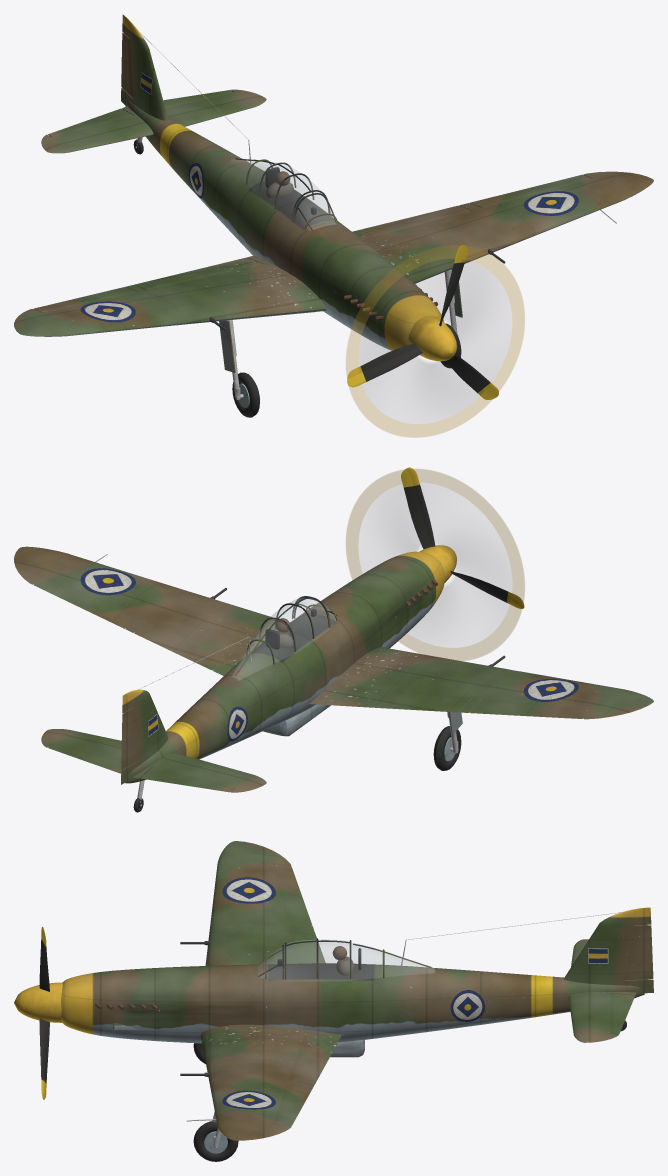
The model's file is fighter_t1_game.glb.
3 views of the same model, one above another, from view 1: azimuth 30°, elevation 25°; view 2: azimuth 150°, elevation 25°; view 3: azimuth 270°, elevation 25° (orthographic). The views are drawn at different scales.
Parts seen in each view (by area): view 1: fuselage, prop_disc, wing_R, wing_L, stabilizer, prop_blades, canopy, prop_spinner, flap_R, flap_L, elevator, decal_wing_L_top (+4 smaller); view 2: fuselage, prop_disc, wing_R, wing_L, stabilizer, flap_R, flap_L, canopy, prop_blades, elevator, aileron_L, aileron_R (+6 smaller); view 3: fuselage, wing_L, wing_R, canopy, stabilizer, flap_L, prop_spinner, rudder, aileron_R, wheel_main_L, decal_wing_R_top, prop_blades (+5 smaller).
Boxes of the visible parts, x1,y1,x2,y2 form: fuselage: (121,14,444,350); prop_disc: (346,245,524,437); wing_R: (14,255,326,336); wing_L: (362,171,653,283); stabilizer: (41,89,266,153); prop_blades: (347,244,498,399); canopy: (258,162,328,223); prop_spinner: (408,315,456,361); flap_R: (134,257,262,289); flap_L: (352,205,471,239); elevator: (48,90,234,136); decal_wing_L_top: (524,191,578,215); fuselage: (121,551,444,784); prop_disc: (346,469,524,660); wing_R: (309,647,653,719); wing_L: (14,546,277,657); stabilizer: (41,729,266,792); flap_R: (320,685,471,712); flap_L: (134,619,242,675); canopy: (259,596,330,653); prop_blades: (401,467,524,608); elevator: (48,743,234,792); aileron_L: (33,575,137,628); aileron_R: (470,699,592,718); fuselage: (61,907,653,1057); wing_L: (180,1024,341,1140); wing_R: (180,841,314,965); canopy: (284,938,351,980); stabilizer: (568,939,636,1042); flap_L: (288,1032,339,1084); prop_spinner: (14,982,62,1022); rudder: (625,925,653,980); aileron_R: (273,863,312,925); wheel_main_L: (193,1121,238,1161); decal_wing_R_top: (222,877,275,903); prop_blades: (39,927,49,1099).
Size of what is drawn, in the model's own units: 10.7 by 3.44 by 9.66.
6 materials, 5 textured.
